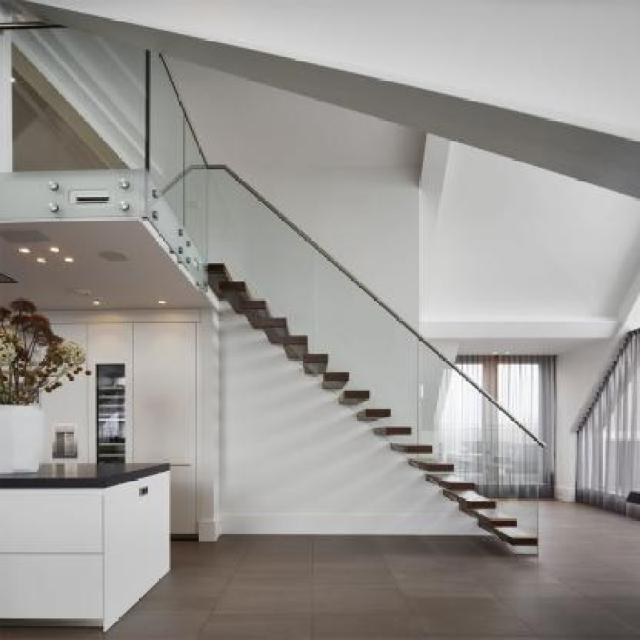stair: (206, 150, 554, 559)
